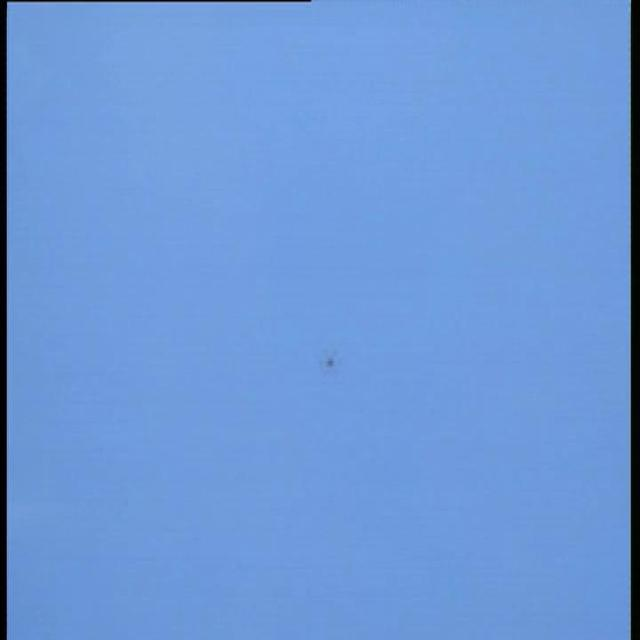drone: (314, 342, 348, 386)
